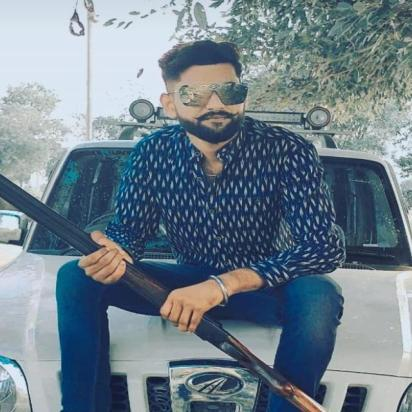Gun: (0, 174, 328, 412)
